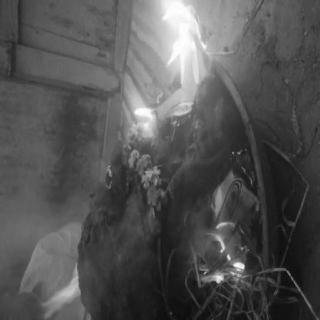Fire: (153, 1, 215, 89), (131, 100, 161, 132)
